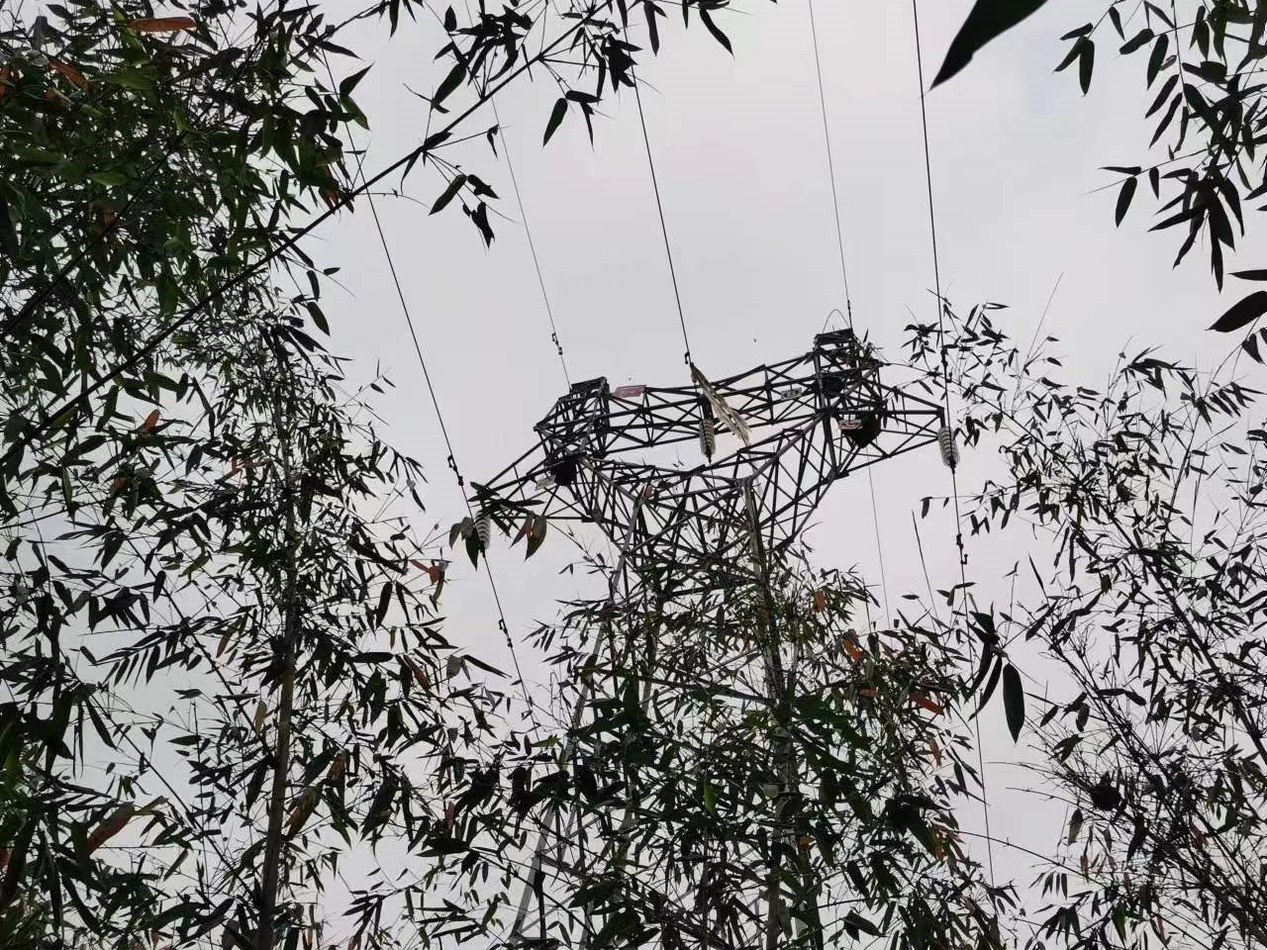异物: (689, 360, 764, 497)
